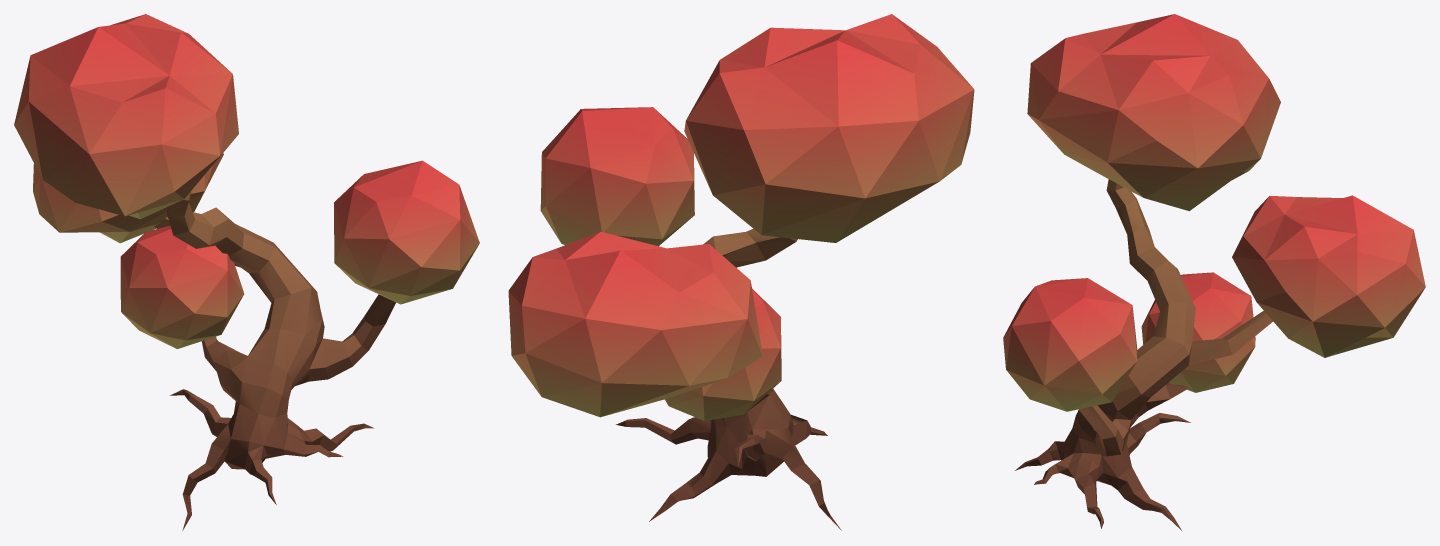
File: ZLP_Plant_D_5.FBX
3 views of the same model, side by side, from view 1: azimuth 30°, elevation 25°; view 2: azimuth 150°, elevation 25°; view 3: azimuth 270°, elevation 25° (orthographic). The views are drawn at different scales.
Visible parts, largest first — view 1: ZLP_Plant_D_5; view 2: ZLP_Plant_D_5; view 3: ZLP_Plant_D_5.
Boxes of the visible parts, bbox=[...] form: ZLP_Plant_D_5: bbox=[14, 14, 479, 530]; ZLP_Plant_D_5: bbox=[508, 14, 974, 530]; ZLP_Plant_D_5: bbox=[1003, 14, 1425, 531].
Size of the model in its own units: 492 by 583 by 491.
